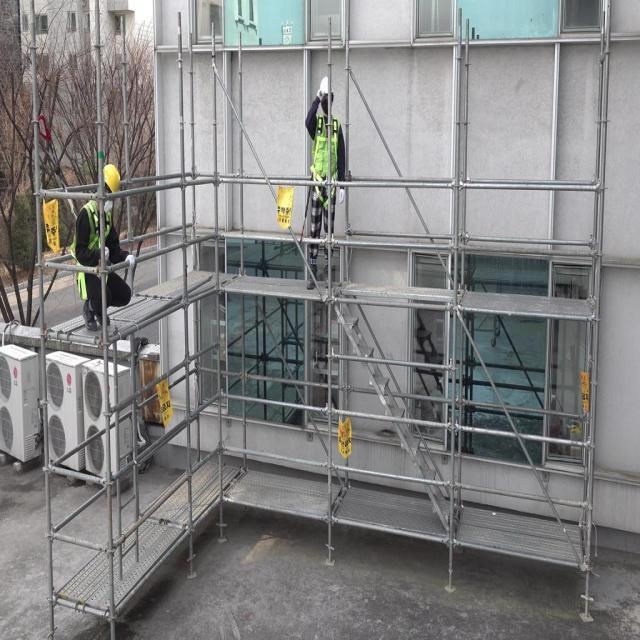Arnes_seguridad: (70, 199, 112, 300), (310, 115, 338, 207)
